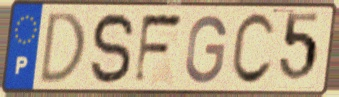5: (277, 11, 323, 90)
C: (228, 10, 278, 89)
D: (36, 10, 88, 87)
F: (131, 11, 186, 87)
G: (183, 13, 230, 86)
S: (89, 10, 137, 88)
